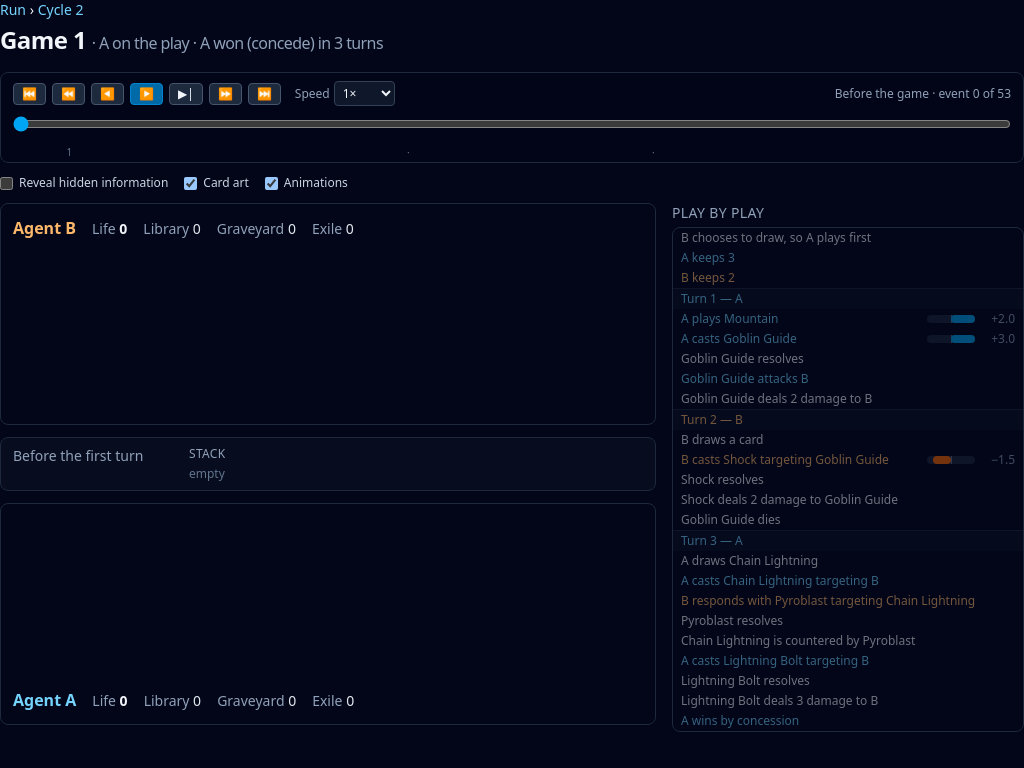
it: the replay of a game › shows a card’s image and oracle text on hover, and only the text with art off
The image size is (1024, 768).
Expected: the element named "Transport" is shown, [0,72,1023,163]
Click the button named "Next turn". click: (225, 94)
box: [209,82,242,104]
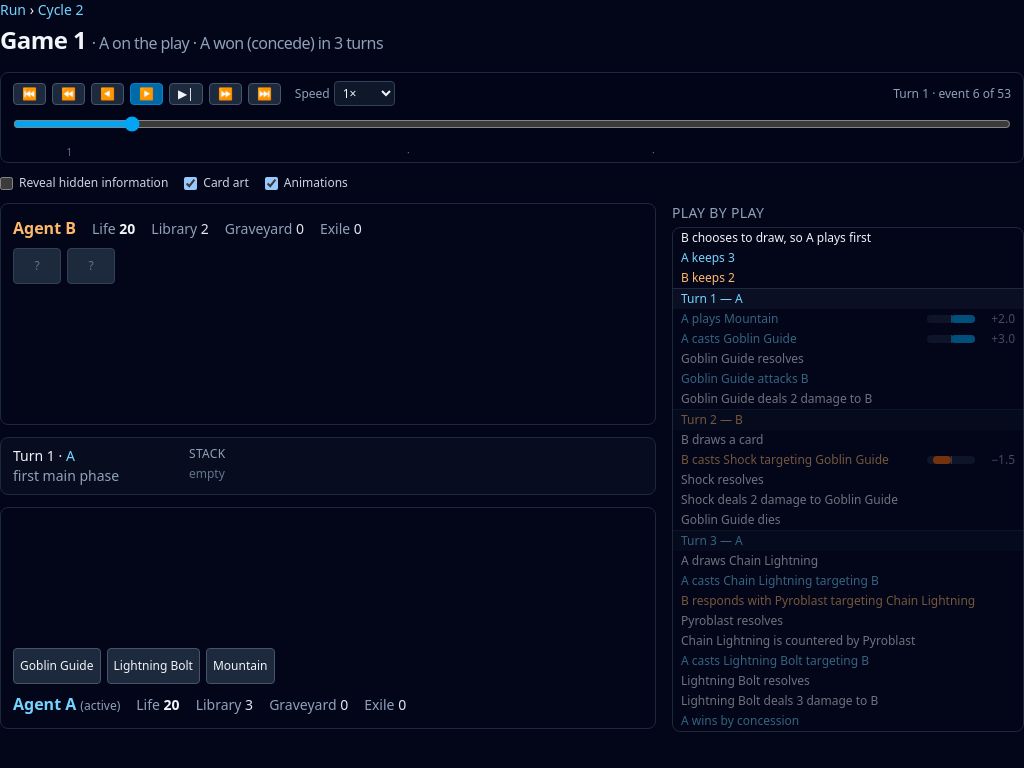
Hover over the button "Goblin Guide" at (57, 666), box [13,648,100,684]
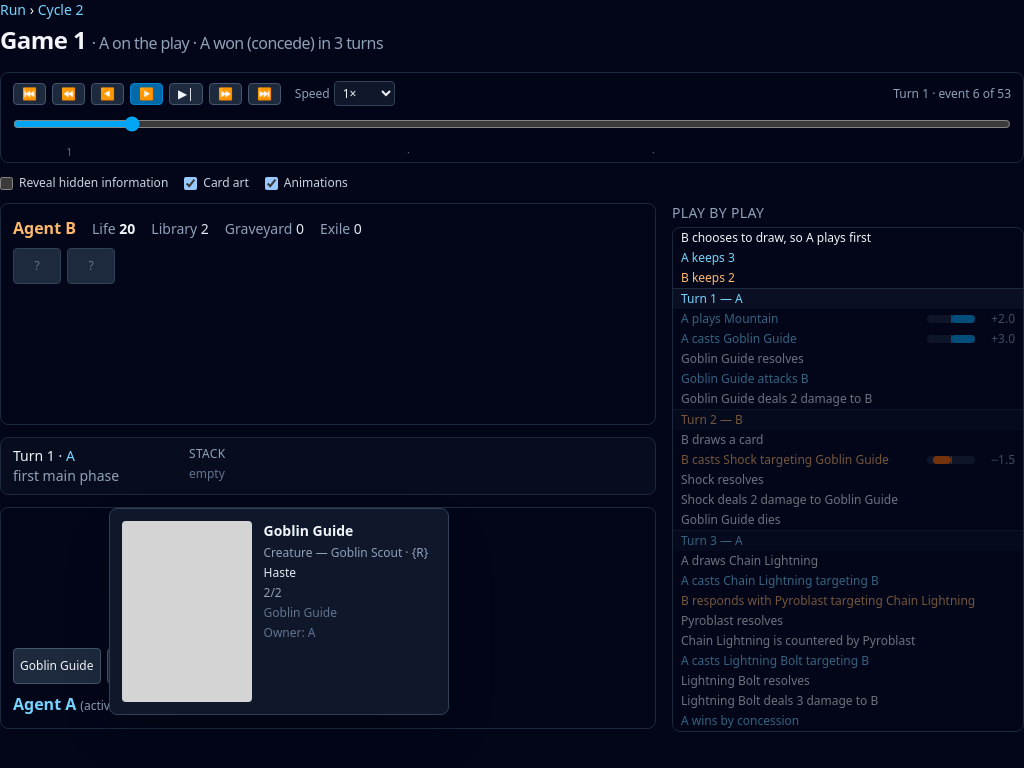
Now the text with test id "oracle-text" reads "Haste", box [264,564,296,581]
Move the pointer off the button "Goblin Guide", box [13,648,100,684]
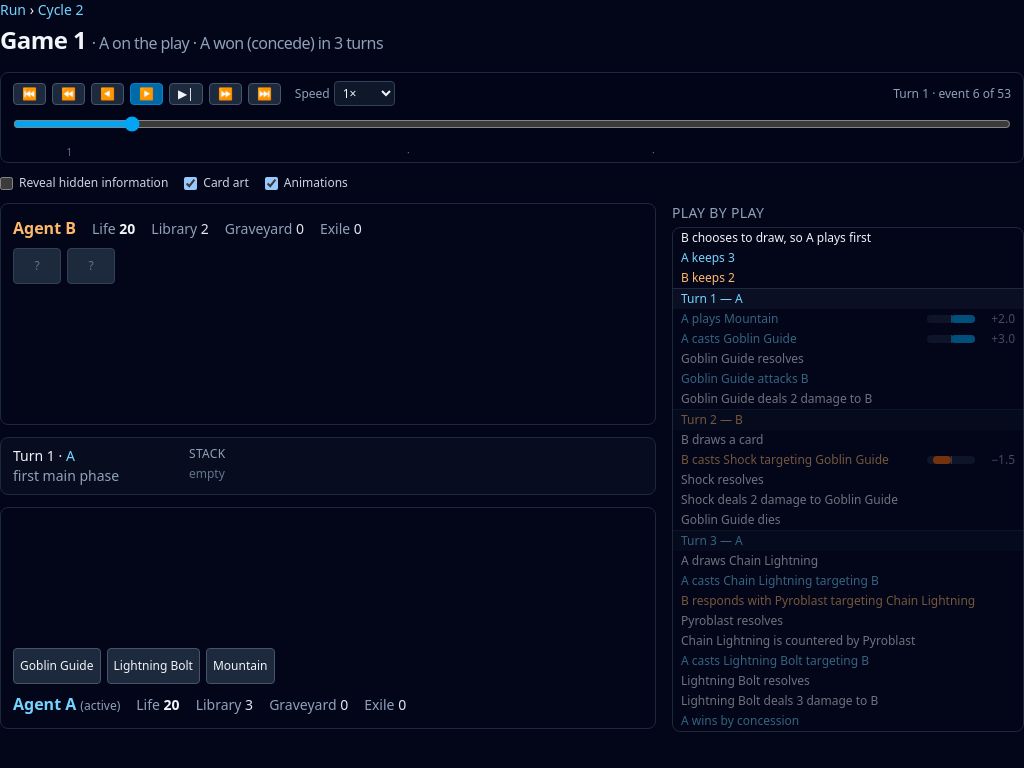
Now the tooltip with test id "hover-card" is gone
Click the checkbox labelled "Card art". click: (191, 183)
box: [184,176,197,190]
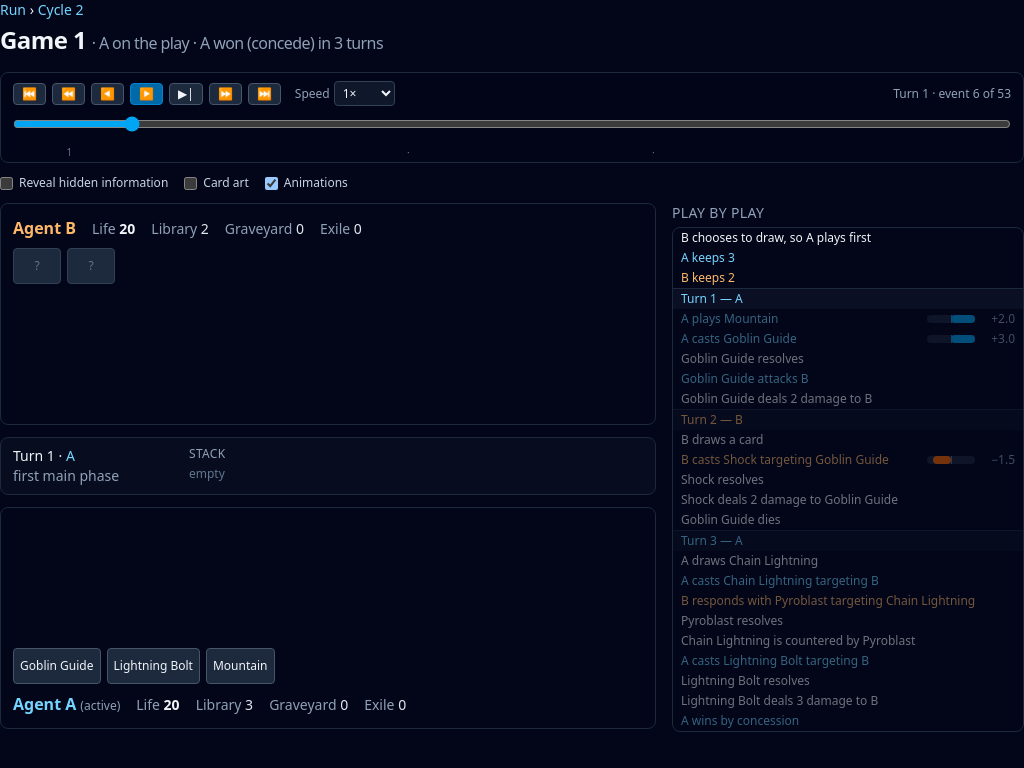
Focus the button "Goblin Guide". click: (57, 666)
box: [13,648,100,684]
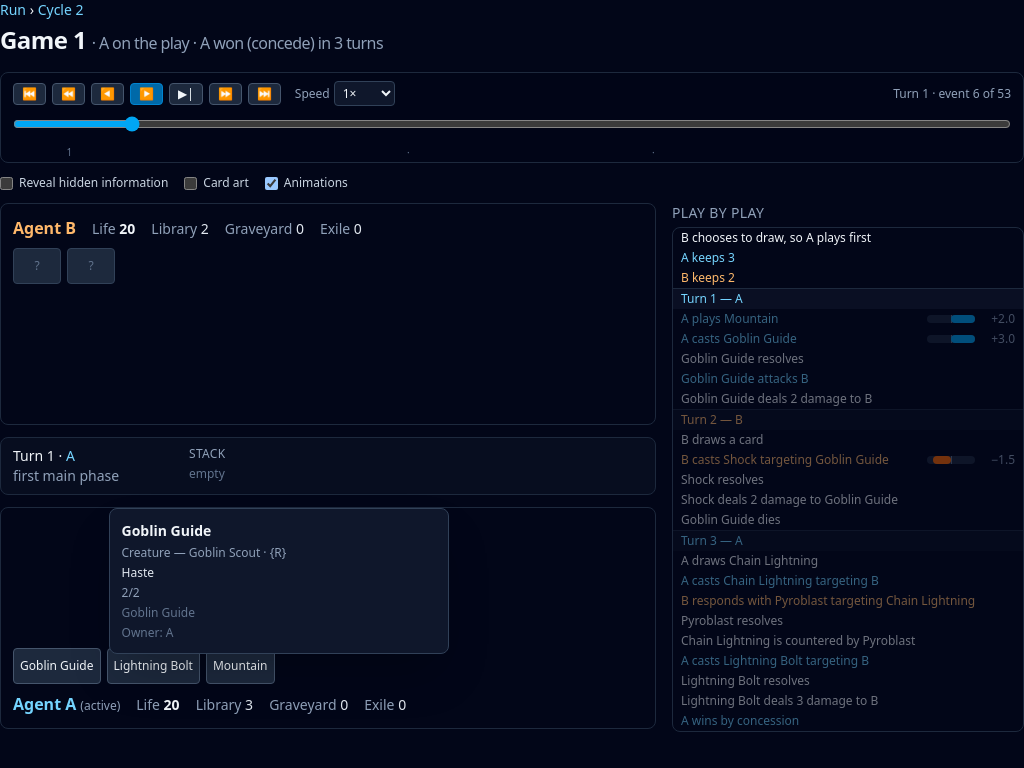
Now the text with test id "oracle-text" reads "Haste", box [122,564,154,581]
